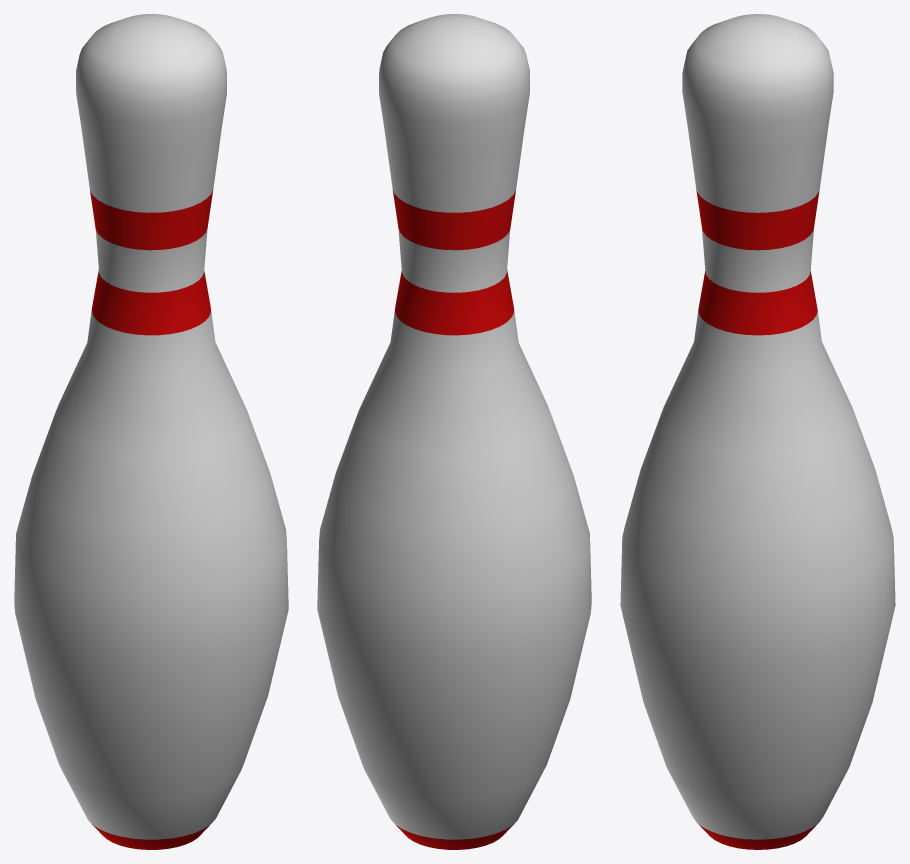
Rendered from Fbx_Bowling_Pin.fbx.
3 views of the same model, side by side, from view 1: azimuth 30°, elevation 25°; view 2: azimuth 150°, elevation 25°; view 3: azimuth 270°, elevation 25° (orthographic).
Parts seen in each view (by area): view 1: BowlingPin; view 2: BowlingPin; view 3: BowlingPin.
Boxes of the visible parts, left/top/right/bottom form: BowlingPin: left=14, top=14, right=288, bottom=849; BowlingPin: left=317, top=14, right=591, bottom=849; BowlingPin: left=620, top=14, right=895, bottom=849.
Bounding box in the file's own units: 0.2485 × 0.8013 × 0.2485.
